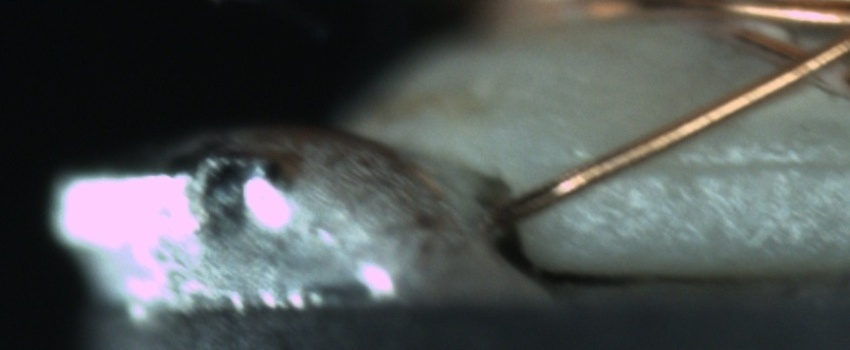CL: (749, 29, 843, 94)
DL: (623, 129, 844, 199)
